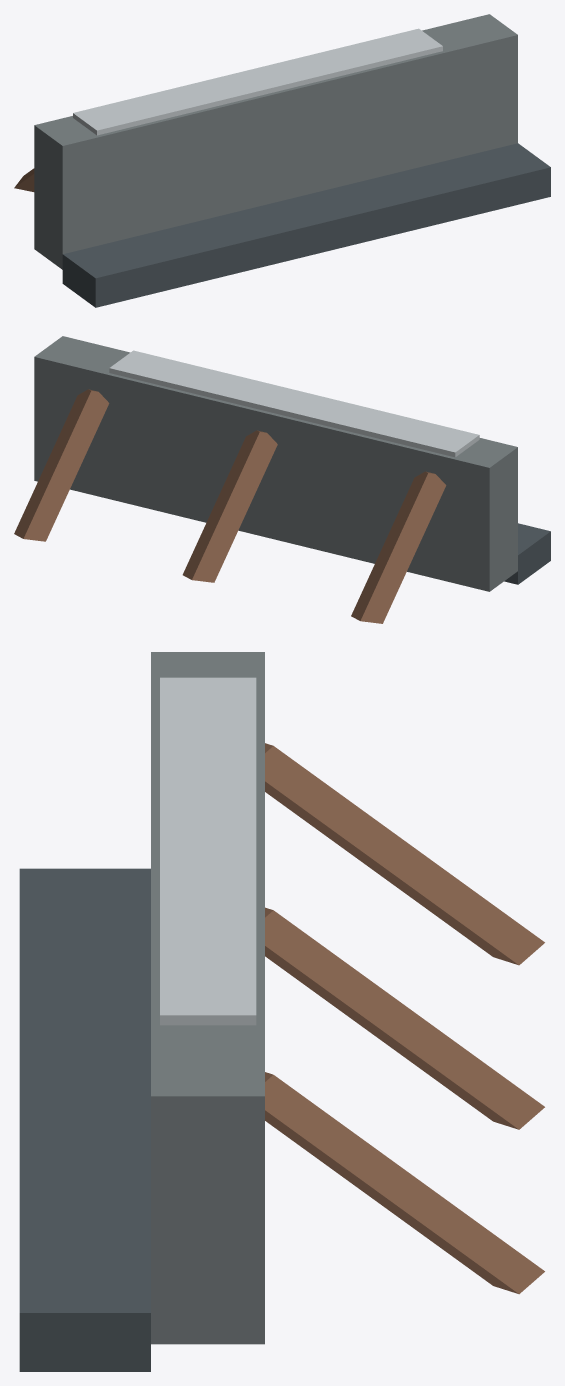
Rendered from plow_blade.glb.
3 views of the same model, one above another, from view 1: azimuth 30°, elevation 25°; view 2: azimuth 150°, elevation 25°; view 3: azimuth 270°, elevation 25° (orthographic). The views are drawn at different scales.
Visible parts, largest first — view 1: plow_blade; view 2: plow_blade; view 3: plow_blade.
Part boxes in pixels (x1,y1,x2,y2): plow_blade: [14, 14, 550, 307]; plow_blade: [14, 336, 550, 623]; plow_blade: [19, 652, 544, 1371].
Bounding box in the file's own units: 3.84 × 1.15 × 1.92.
